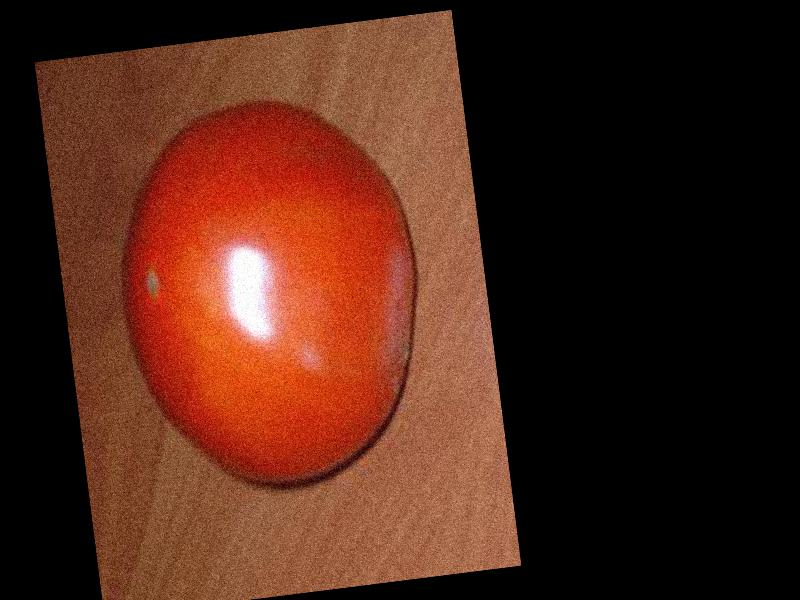Tomato: (98, 80, 438, 506)
